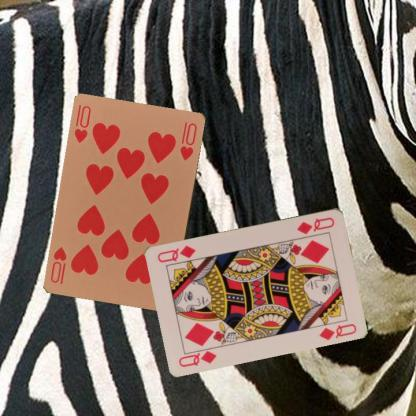10h: (72, 103, 92, 145)
Qd: (176, 343, 219, 368), (294, 214, 336, 236)
